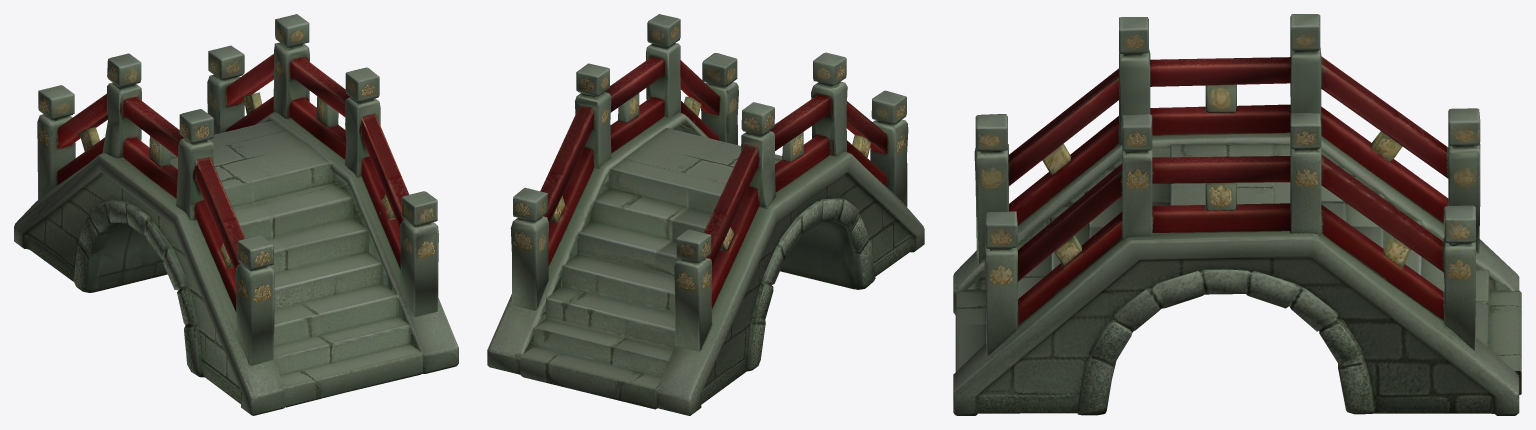
File: tripo_convert_efa1b734-5f29-449f-8f39-065fc1dfe34a.fbx
3 renders of one model, left to right at view 1: azimuth 30°, elevation 25°; view 2: azimuth 150°, elevation 25°; view 3: azimuth 270°, elevation 25°, orthographic. The views are drawn at different scales.
Visible parts, largest first — view 1: tripo_node_efa1b734; view 2: tripo_node_efa1b734; view 3: tripo_node_efa1b734.
Part boxes in pixels (box(x1,y1,x2,y2)): tripo_node_efa1b734: box(14, 14, 458, 415); tripo_node_efa1b734: box(487, 14, 924, 415); tripo_node_efa1b734: box(953, 14, 1521, 415).
Size of the model in its own units: 0.5098 by 0.5605 by 0.998.
Materials: 1 (1 with a texture image).
